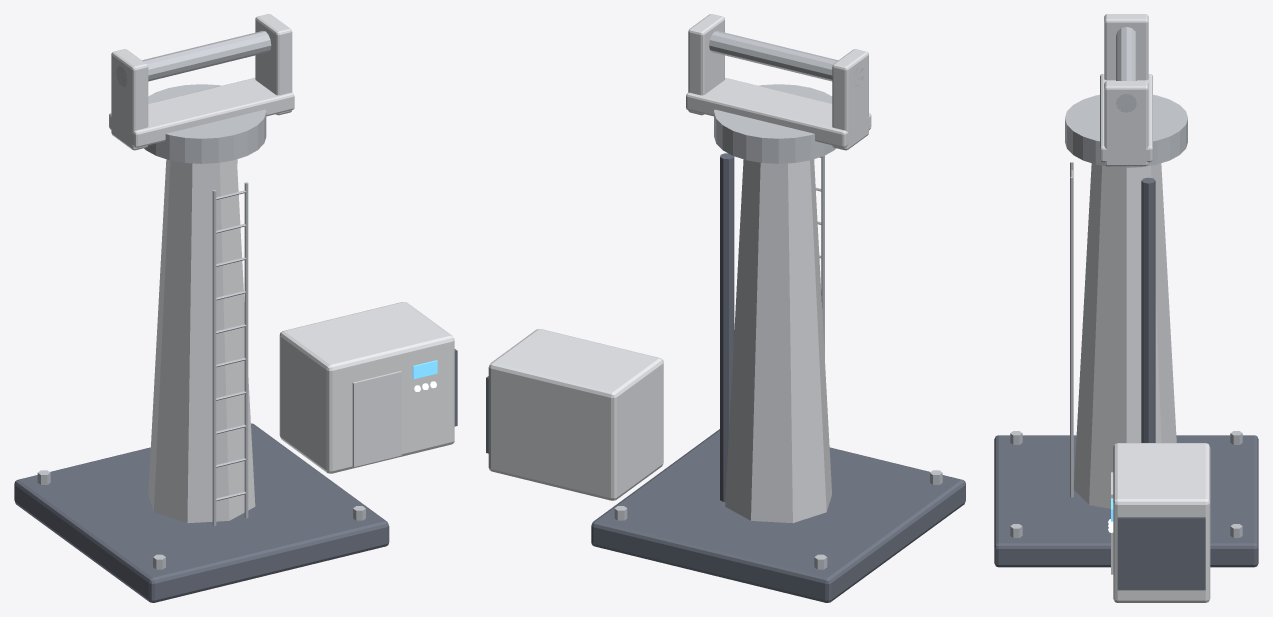
File: dish__mount.fbx
3 renders of one model, left to right at view 1: azimuth 30°, elevation 25°; view 2: azimuth 150°, elevation 25°; view 3: azimuth 270°, elevation 25°, orthographic. The views are drawn at different scales.
Parts seen in each view (by area): view 1: dish__mount; view 2: dish__mount; view 3: dish__mount.
Boxes of the visible parts, x1,y1,x2,y2 form: dish__mount: (14,14,457,602); dish__mount: (486,14,965,602); dish__mount: (994,14,1258,602).
Bounding box in the file's own units: 4.64 × 5.8 × 3.
